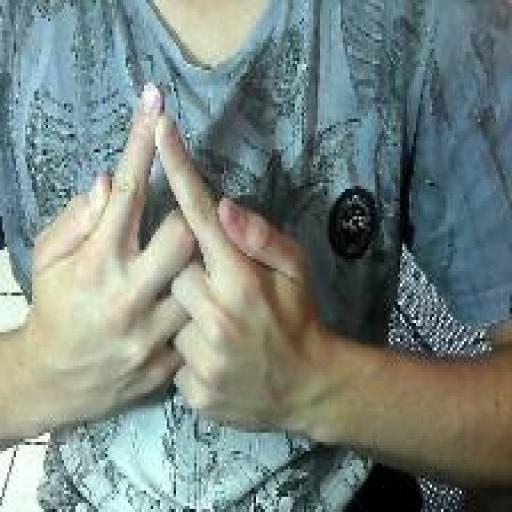Uma -horse-: (26, 81, 319, 440)
